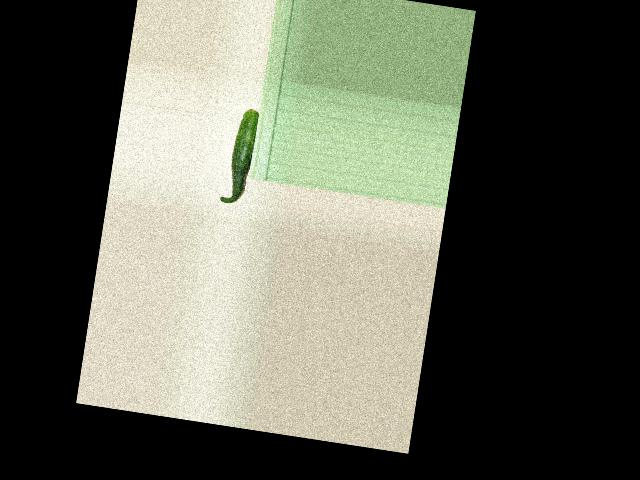cucumber: (219, 107, 259, 206)
